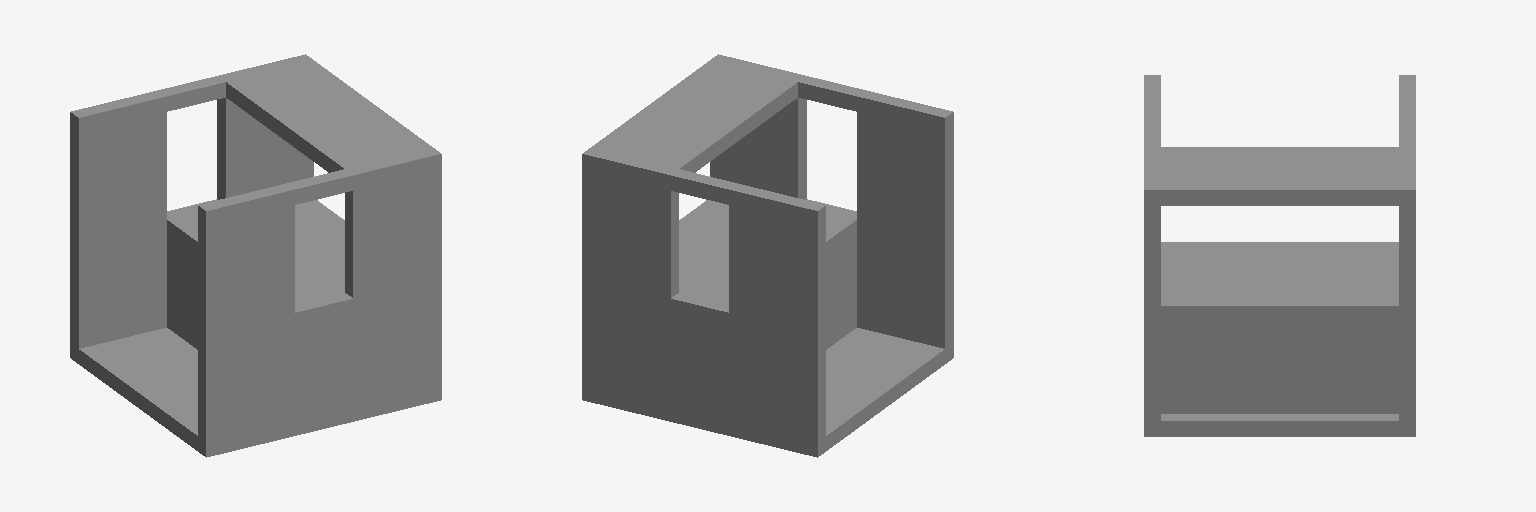
File: saw.obj
The picture shows the model from 3 angles: view 1: azimuth 30°, elevation 25°; view 2: azimuth 150°, elevation 25°; view 3: azimuth 270°, elevation 25°; orthographic projection.
Parts seen in each view (by area): view 1: Cube; view 2: Cube; view 3: Cube.
Part boxes in pixels (x1,y1,x2,y2): Cube: (70, 54, 441, 457); Cube: (582, 54, 953, 457); Cube: (1144, 75, 1415, 436).
Size of the model in its own units: 1 by 1 by 1.